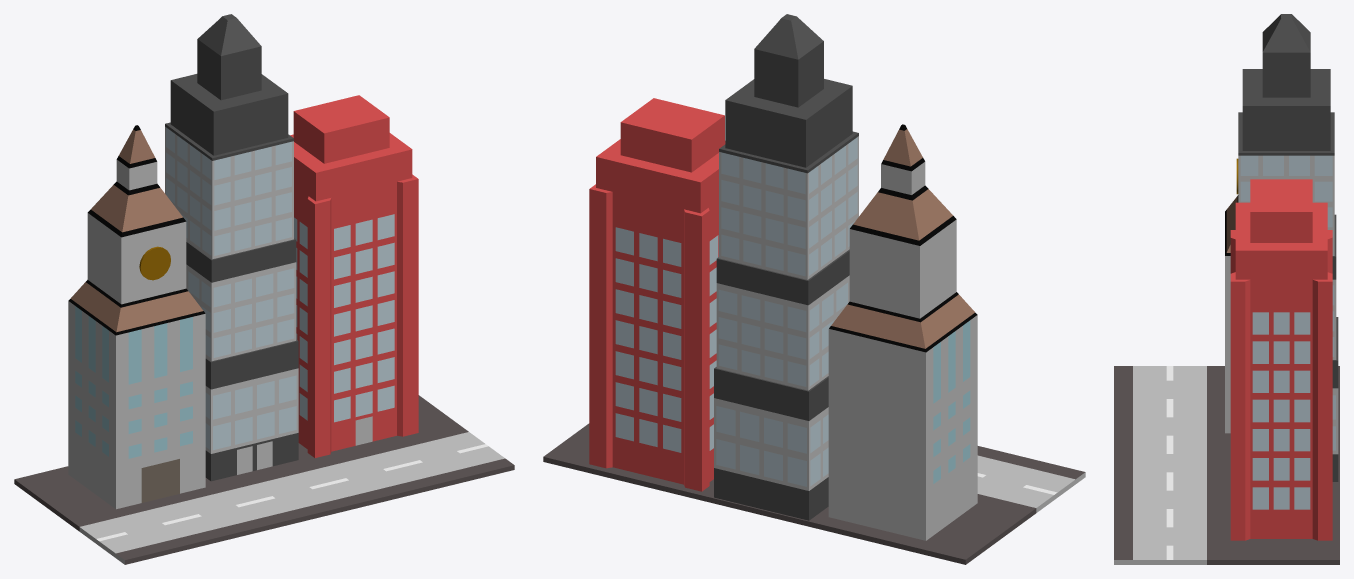
Rendered from cc040610-d2b9-45bc-9c61-f4a26bbb4c8f.glb.
The picture shows the model from 3 angles, left to right: view 1: azimuth 30°, elevation 25°; view 2: azimuth 150°, elevation 25°; view 3: azimuth 270°, elevation 25°; orthographic projection. The views are drawn at different scales.
Visible parts, largest first — view 1: Box001, Box002, Cylinder001, Box004; view 2: Box001, Cylinder001, Box002, Box004; view 3: Box002, Box004, Box001, Cylinder001.
Part boxes in pixels (x1,y1,x2,y2): Box001: (165, 14, 298, 481); Box002: (290, 95, 418, 457); Cylinder001: (68, 125, 205, 509); Box004: (14, 395, 514, 564); Box001: (714, 14, 858, 520); Cylinder001: (828, 124, 977, 540); Box002: (589, 98, 725, 491); Box004: (543, 423, 1085, 564); Box002: (1230, 179, 1332, 540); Box004: (1114, 366, 1339, 564); Box001: (1238, 14, 1338, 481); Cylinder001: (1225, 158, 1238, 433).
Size of the model in its own units: 263 by 284 by 129.
